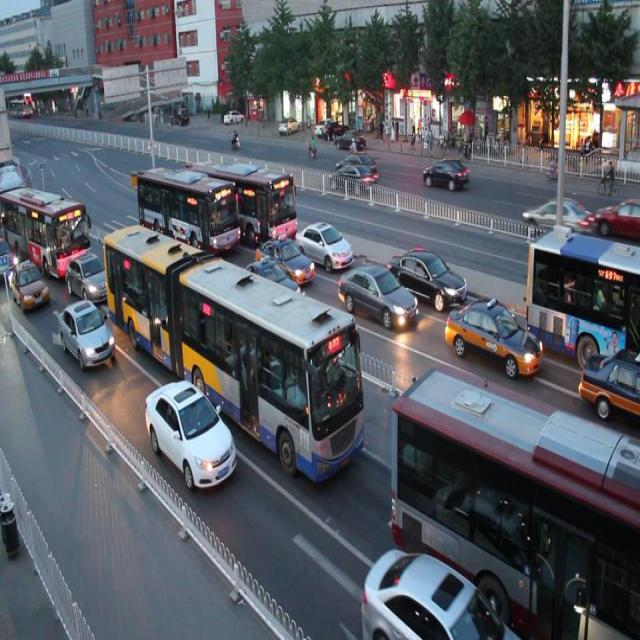car: (358, 546, 518, 640), (143, 378, 237, 490), (446, 294, 544, 382), (337, 258, 416, 331), (390, 243, 468, 309), (577, 343, 640, 423), (58, 298, 116, 369), (237, 252, 302, 313), (253, 230, 314, 289), (294, 214, 352, 273), (64, 251, 116, 306), (1, 259, 51, 311)
van: (102, 218, 366, 482), (392, 366, 640, 640), (524, 225, 640, 360), (136, 160, 240, 262), (191, 153, 298, 248), (1, 182, 90, 272)
